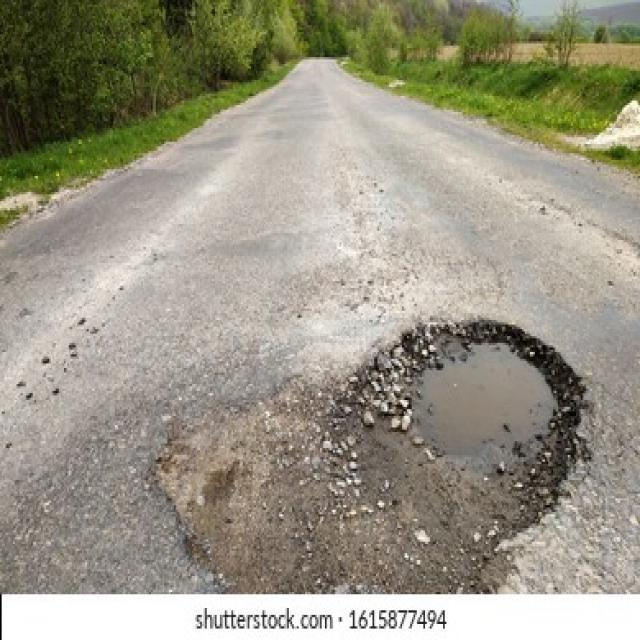Pothole: (351, 315, 591, 567)
